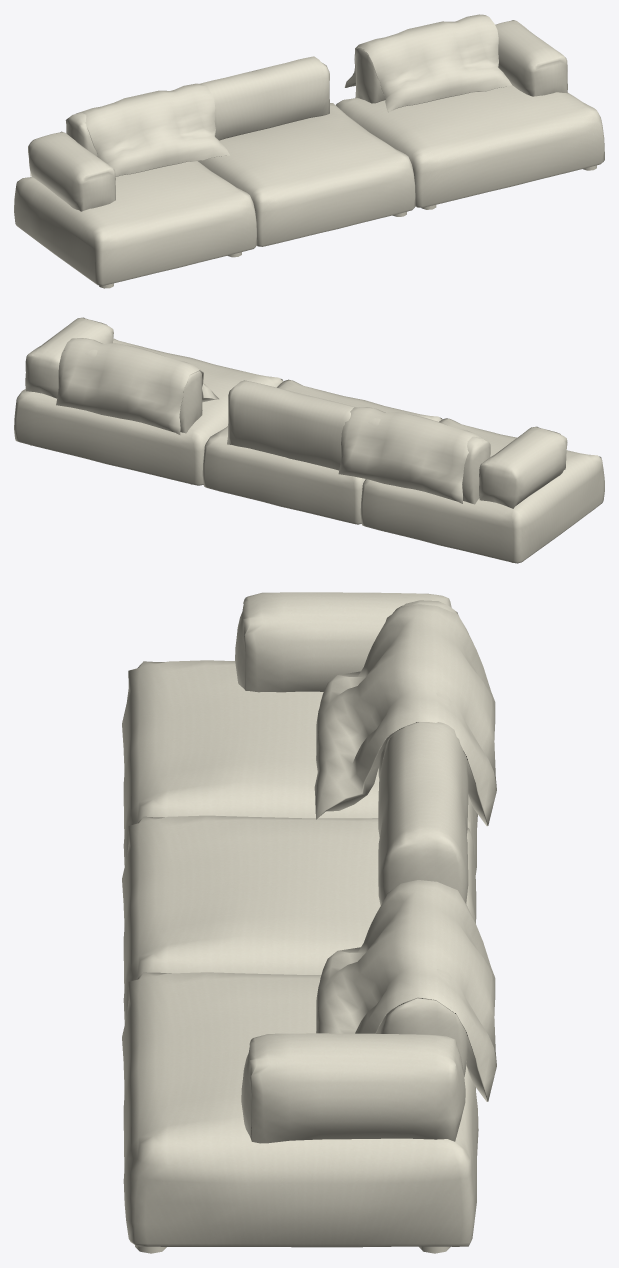
The model's file is Sofa.fbx.
3 renders of one model, top to bottom at view 1: azimuth 30°, elevation 25°; view 2: azimuth 150°, elevation 25°; view 3: azimuth 270°, elevation 25°, orthographic. The views are drawn at different scales.
Parts seen in each view (by area): view 1: Sofa; view 2: Sofa; view 3: Sofa.
Part boxes in pixels (x1,y1,x2,y2): Sofa: (14, 14, 604, 288); Sofa: (14, 317, 604, 563); Sofa: (122, 592, 496, 1253).
Size of the model in its own units: 361 by 76.28 by 114.
